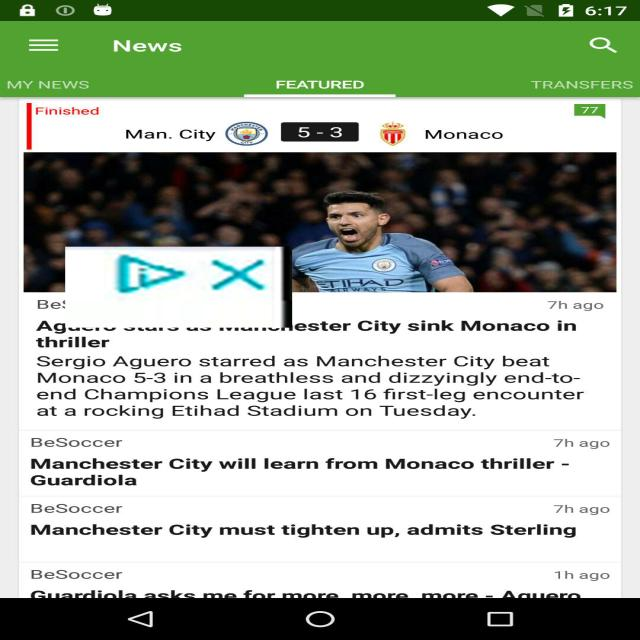sneaking: (65, 246, 292, 328)
